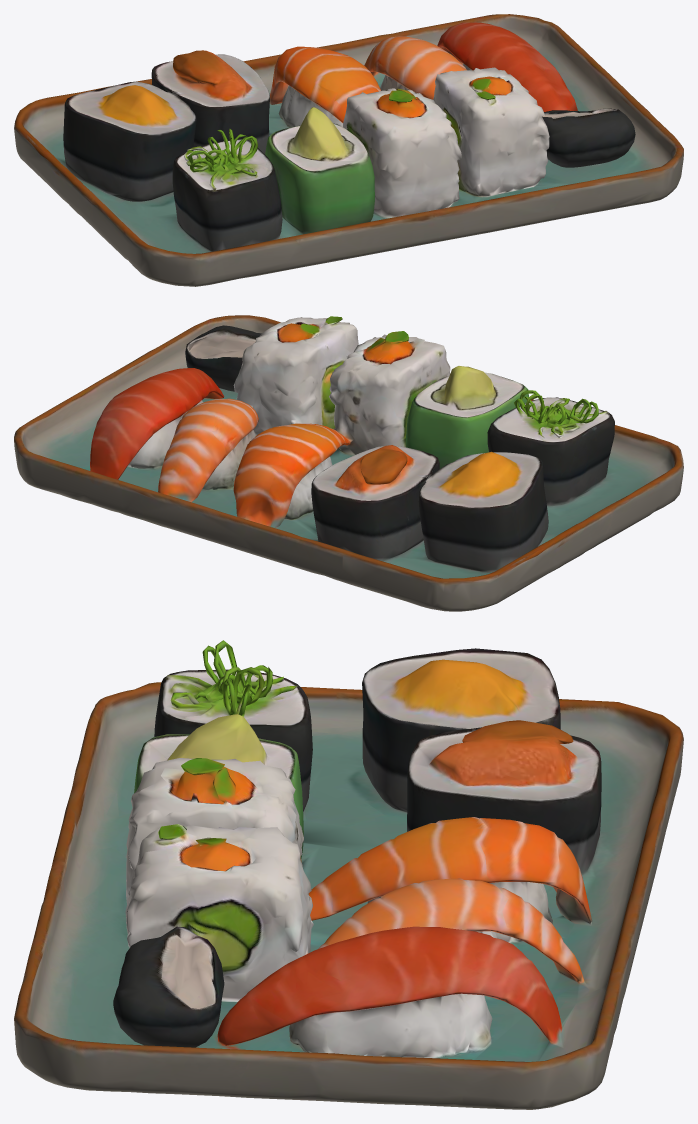
The model's file is sushi.glb.
The picture shows the model from 3 angles, top to bottom: view 1: azimuth 30°, elevation 25°; view 2: azimuth 150°, elevation 25°; view 3: azimuth 270°, elevation 25°; orthographic projection. The views are drawn at different scales.
Parts seen in each view (by area): view 1: Object_4; view 2: Object_4; view 3: Object_4.
Boxes of the visible parts, <box> form: Object_4: <box>14,14,683,286</box>; Object_4: <box>14,315,683,611</box>; Object_4: <box>14,640,683,1109</box>.
Size of the model in its own units: 0.3 by 0.0594 by 0.2203.
1 material, 1 textured.
